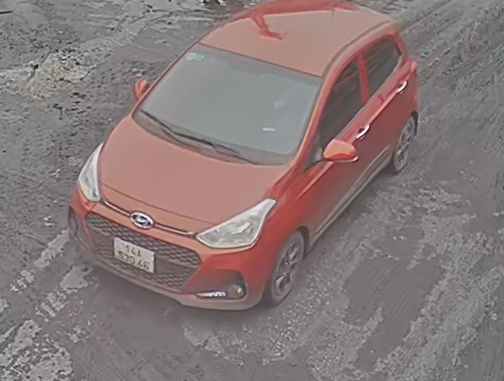vehicle plate: (106, 233, 159, 281)
